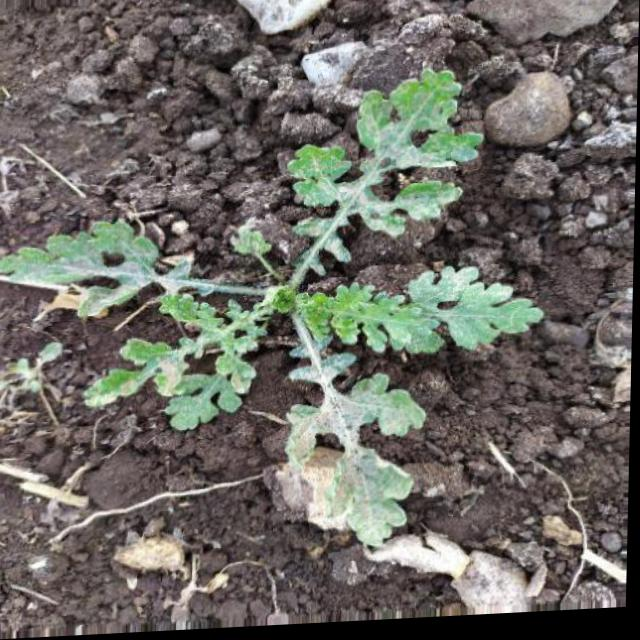weed: (4, 66, 551, 552)
